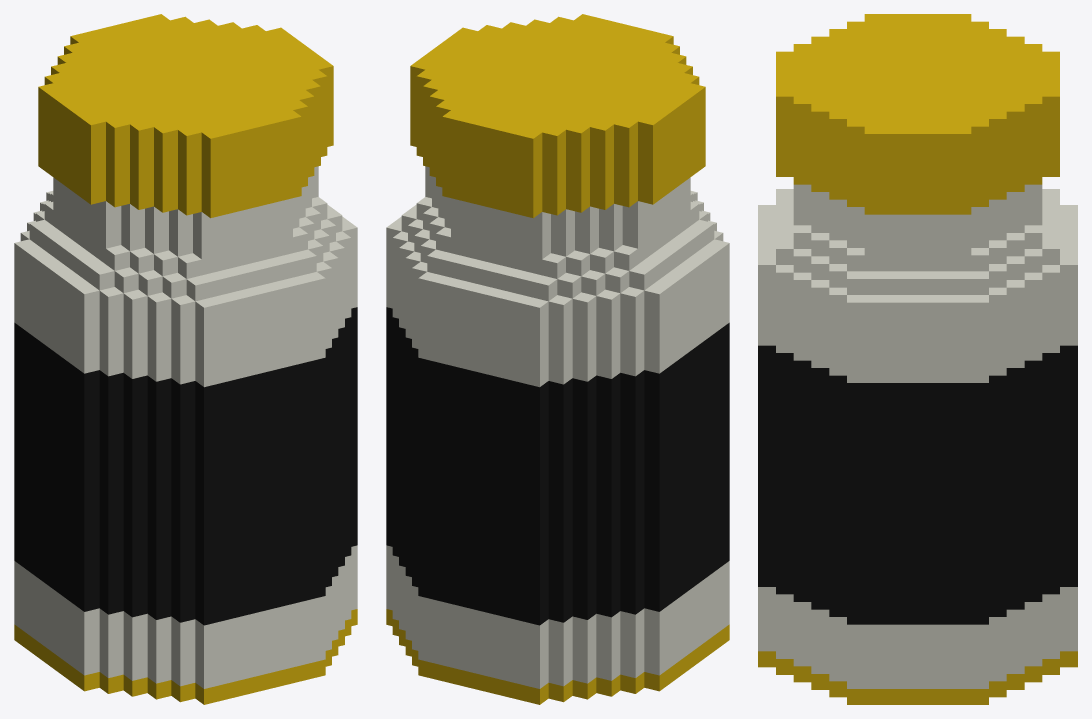
Rendered from caffeine_pills.glb.
The picture shows the model from 3 angles, left to right: view 1: azimuth 30°, elevation 25°; view 2: azimuth 150°, elevation 25°; view 3: azimuth 270°, elevation 25°; orthographic projection.
Parts seen in each view (by area): view 1: caffeine_pills:vessel; view 2: caffeine_pills:vessel; view 3: caffeine_pills:vessel.
Part boxes in pixels (bbox=[...]): caffeine_pills:vessel: bbox=[14, 14, 357, 704]; caffeine_pills:vessel: bbox=[386, 14, 729, 704]; caffeine_pills:vessel: bbox=[758, 14, 1077, 704].
Size of the model in its own units: 0.036 by 0.07 by 0.036.
